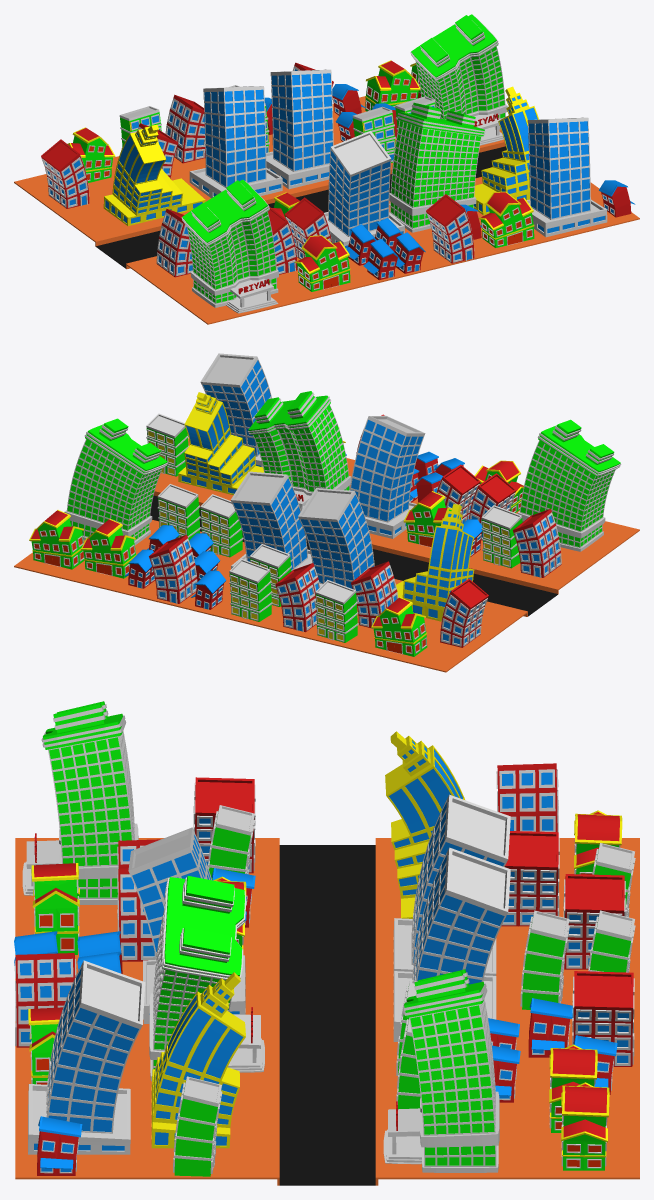
The model's file is AllBuildings.fbx.
3 renders of one model, top to bottom at view 1: azimuth 30°, elevation 25°; view 2: azimuth 150°, elevation 25°; view 3: azimuth 270°, elevation 25°, orthographic. The views are drawn at different scales.
Parts seen in each view (by area): view 1: Box007, Box023, Box013, Box031, Box019, Box032, Box037, Box006, Box030, Box014, Box024, Box015 (+17 smaller); view 2: Box007, Box023, Box031, Box013, Box006, Box032, Box037, Box014, Box030, Box019, Box002, Box044 (+23 smaller); view 3: Box007, Box031, Box019, Box023, Box013, Box037, Box014, Box030, Box032, Box006, Box044, Box047 (+24 smaller).
Part boxes in pixels (box(x1,y1,x2,y2)): Box007: box(14, 96, 639, 324); Box023: box(181, 179, 278, 313); Box013: box(389, 102, 485, 232); Box031: box(410, 14, 507, 145); Box019: box(527, 117, 607, 237); Box032: box(189, 86, 282, 198); Box037: box(266, 69, 333, 189); Box006: box(324, 130, 404, 248); Box030: box(103, 124, 205, 225); Box014: box(474, 86, 538, 215); Box024: box(294, 235, 350, 291); Box015: box(478, 191, 534, 247); Box007: box(14, 438, 639, 672); Box023: box(517, 419, 621, 551); Box031: box(64, 418, 167, 545); Box013: box(247, 391, 351, 510); Box006: box(350, 415, 425, 538); Box032: box(298, 488, 374, 588); Box037: box(230, 471, 312, 570); Box014: box(178, 392, 263, 495); Box030: box(396, 504, 474, 621); Box019: box(200, 353, 271, 467); Box002: box(513, 508, 561, 577); Box044: box(149, 534, 197, 603); Box007: box(15, 838, 639, 1185); Box031: box(383, 969, 499, 1172); Box019: box(28, 960, 145, 1154); Box023: box(22, 701, 138, 904); Box013: box(149, 876, 264, 1081); Box037: box(393, 847, 510, 1041); Box014: box(151, 972, 245, 1148); Box030: box(385, 731, 464, 918); Box032: box(393, 794, 510, 981); Box006: box(128, 827, 245, 1023); Box044: box(572, 971, 634, 1066); Box047: box(501, 831, 559, 926).
Size of the model in its own units: 674 by 171 by 521.
